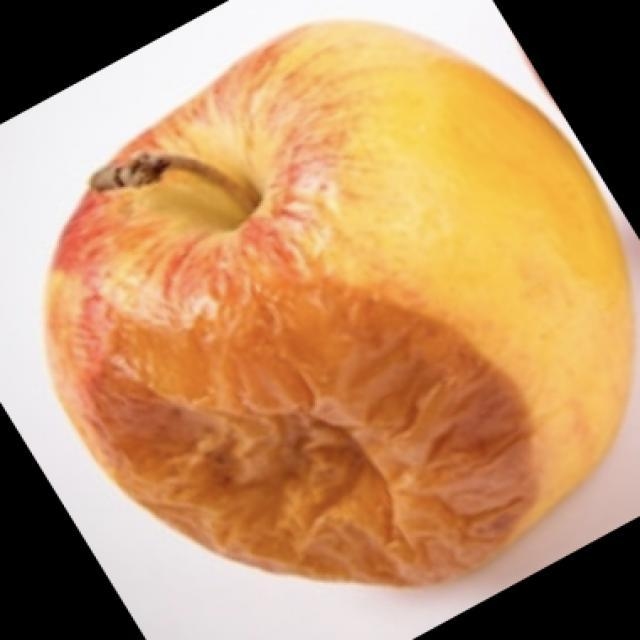Rotten: (50, 30, 628, 577)
